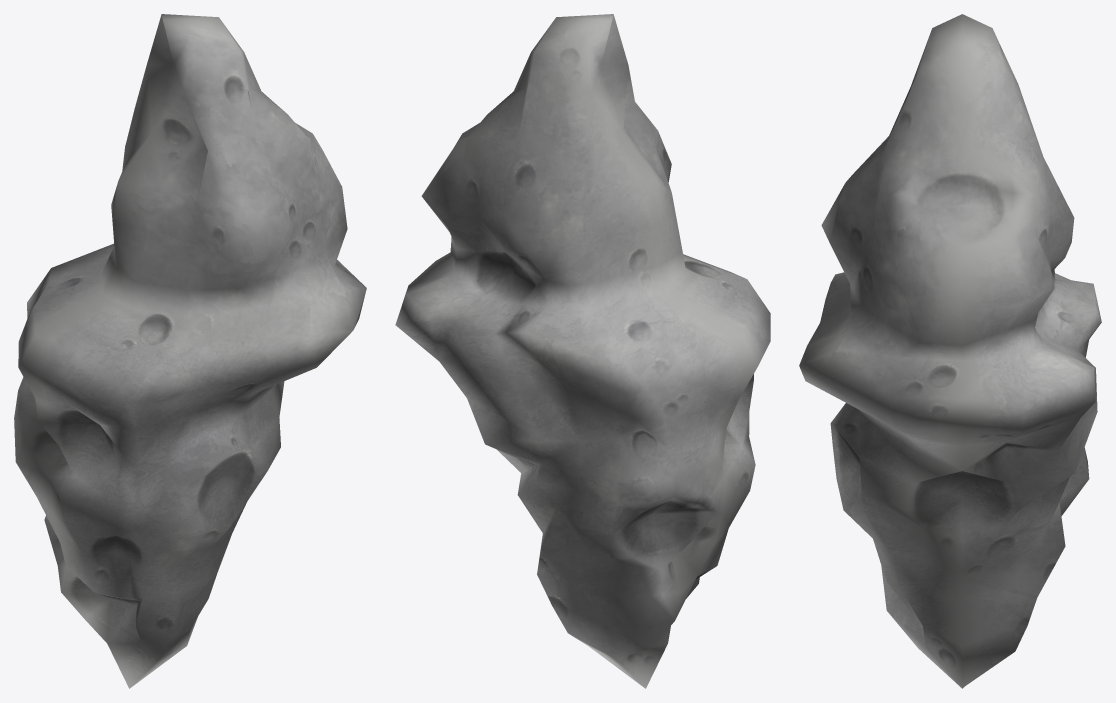
The model's file is Rock2.fbx.
3 views of the same model, side by side, from view 1: azimuth 30°, elevation 25°; view 2: azimuth 150°, elevation 25°; view 3: azimuth 270°, elevation 25° (orthographic). The views are drawn at different scales.
Parts seen in each view (by area): view 1: pCube1; view 2: pCube1; view 3: pCube1.
Part boxes in pixels (box(x1,y1,x2,y2)): pCube1: box(14, 14, 366, 688); pCube1: box(395, 14, 770, 688); pCube1: box(799, 14, 1101, 688).
Bounding box in the file's own units: 153 × 303 × 120.
Materials: 1 (1 with a texture image).
